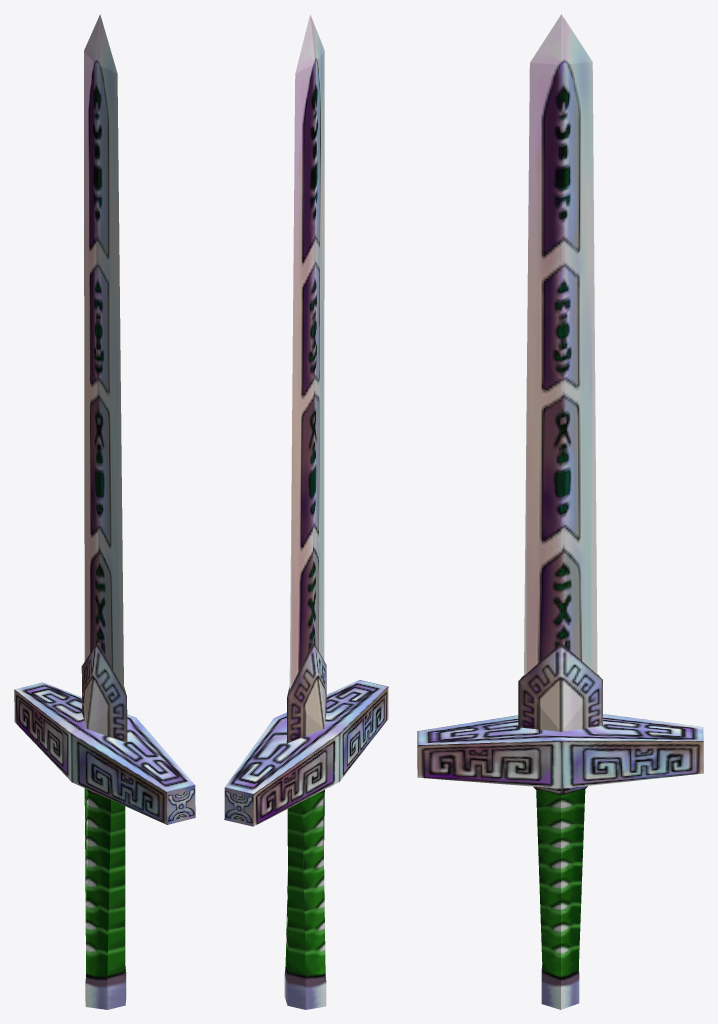
Rendered from zhenyaojian.FBX.
3 views of the same model, side by side, from view 1: azimuth 30°, elevation 25°; view 2: azimuth 150°, elevation 25°; view 3: azimuth 270°, elevation 25° (orthographic).
Visible parts, largest first — view 1: Mesh_0206; view 2: Mesh_0206; view 3: Mesh_0206.
Boxes of the visible parts, x1,y1,x2,y2 form: Mesh_0206: [14, 14, 195, 1009]; Mesh_0206: [224, 14, 388, 1009]; Mesh_0206: [417, 14, 703, 1009].
Bounding box in the file's own units: 7.5 × 108 × 28.4.
Materials: 1 (1 with a texture image).
